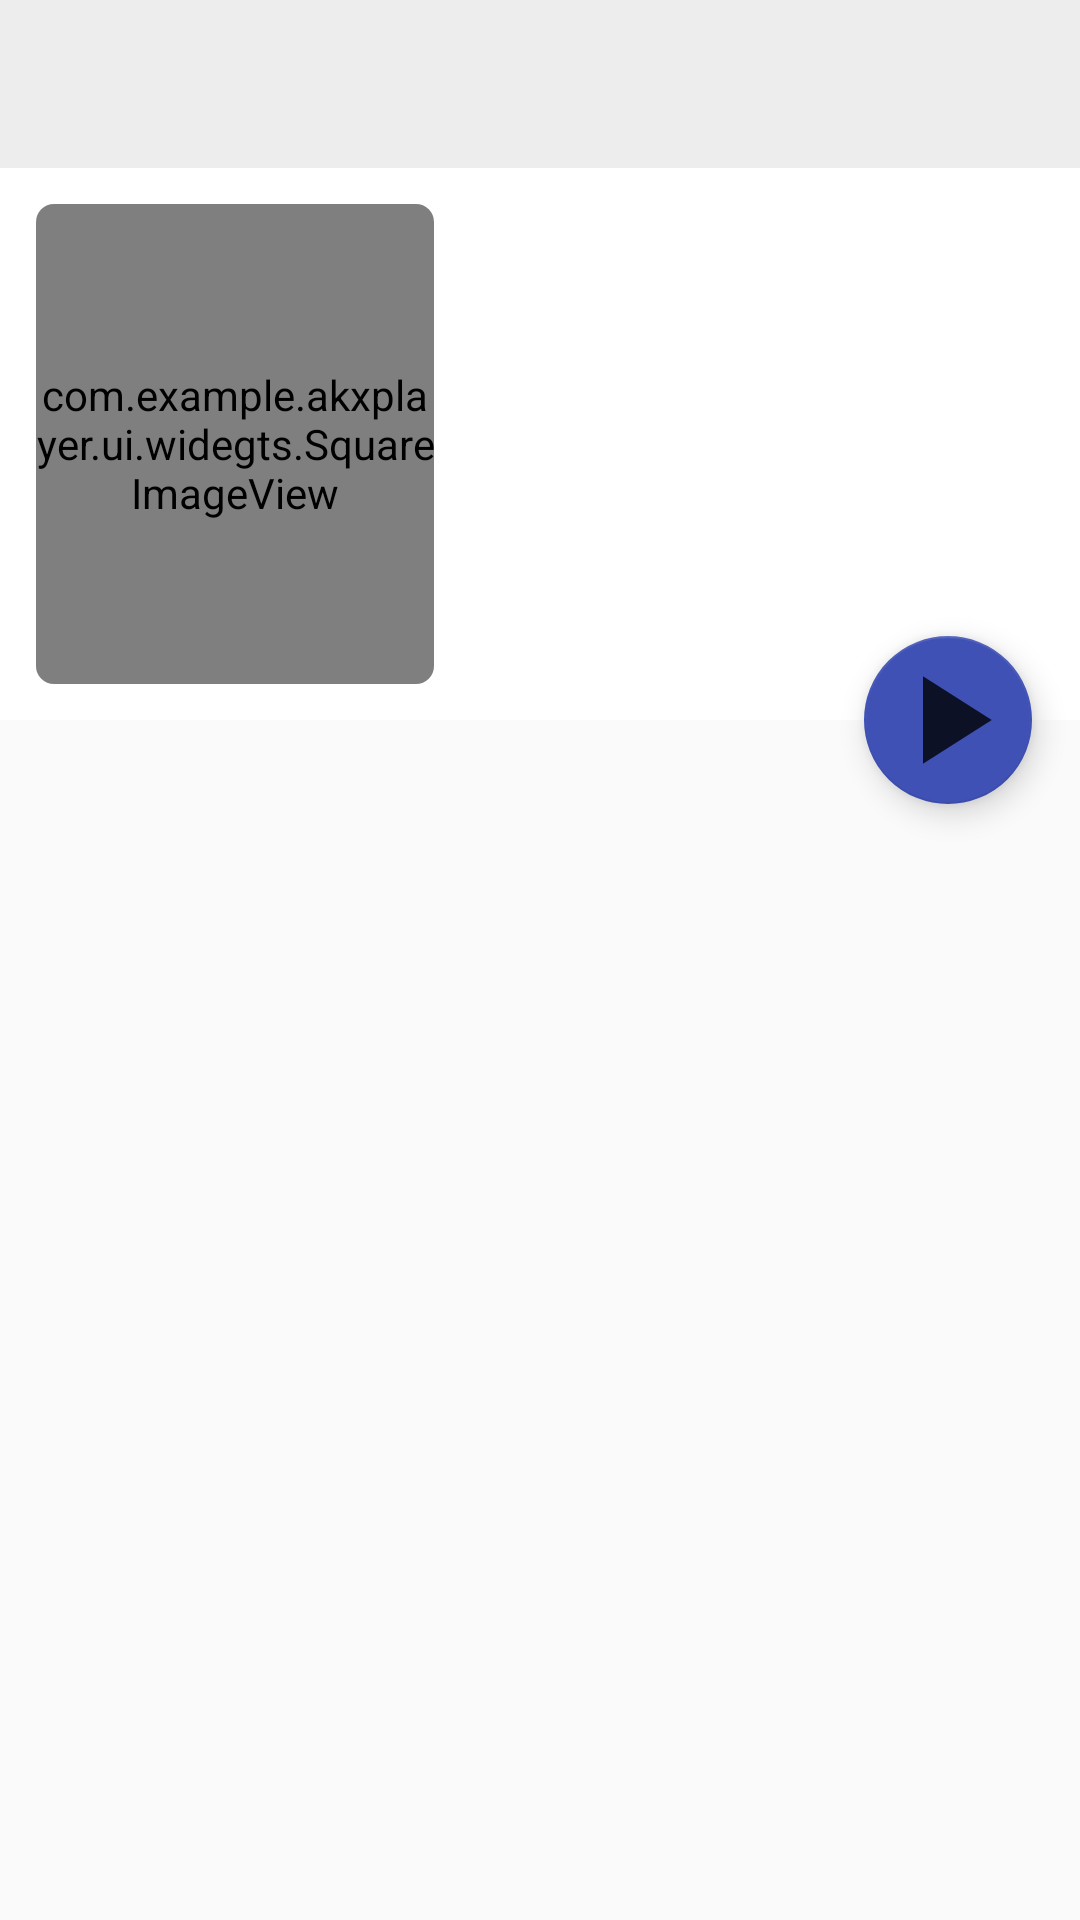

Where icons sit on this 1080 x 1920 app screen, as box(x1, y1, x2, y2):
play arrow: box(864, 636, 1032, 804)
